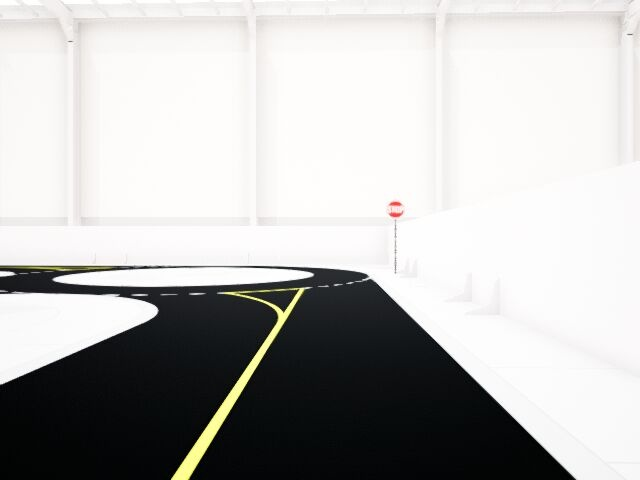stopsign: (386, 199, 406, 220)
